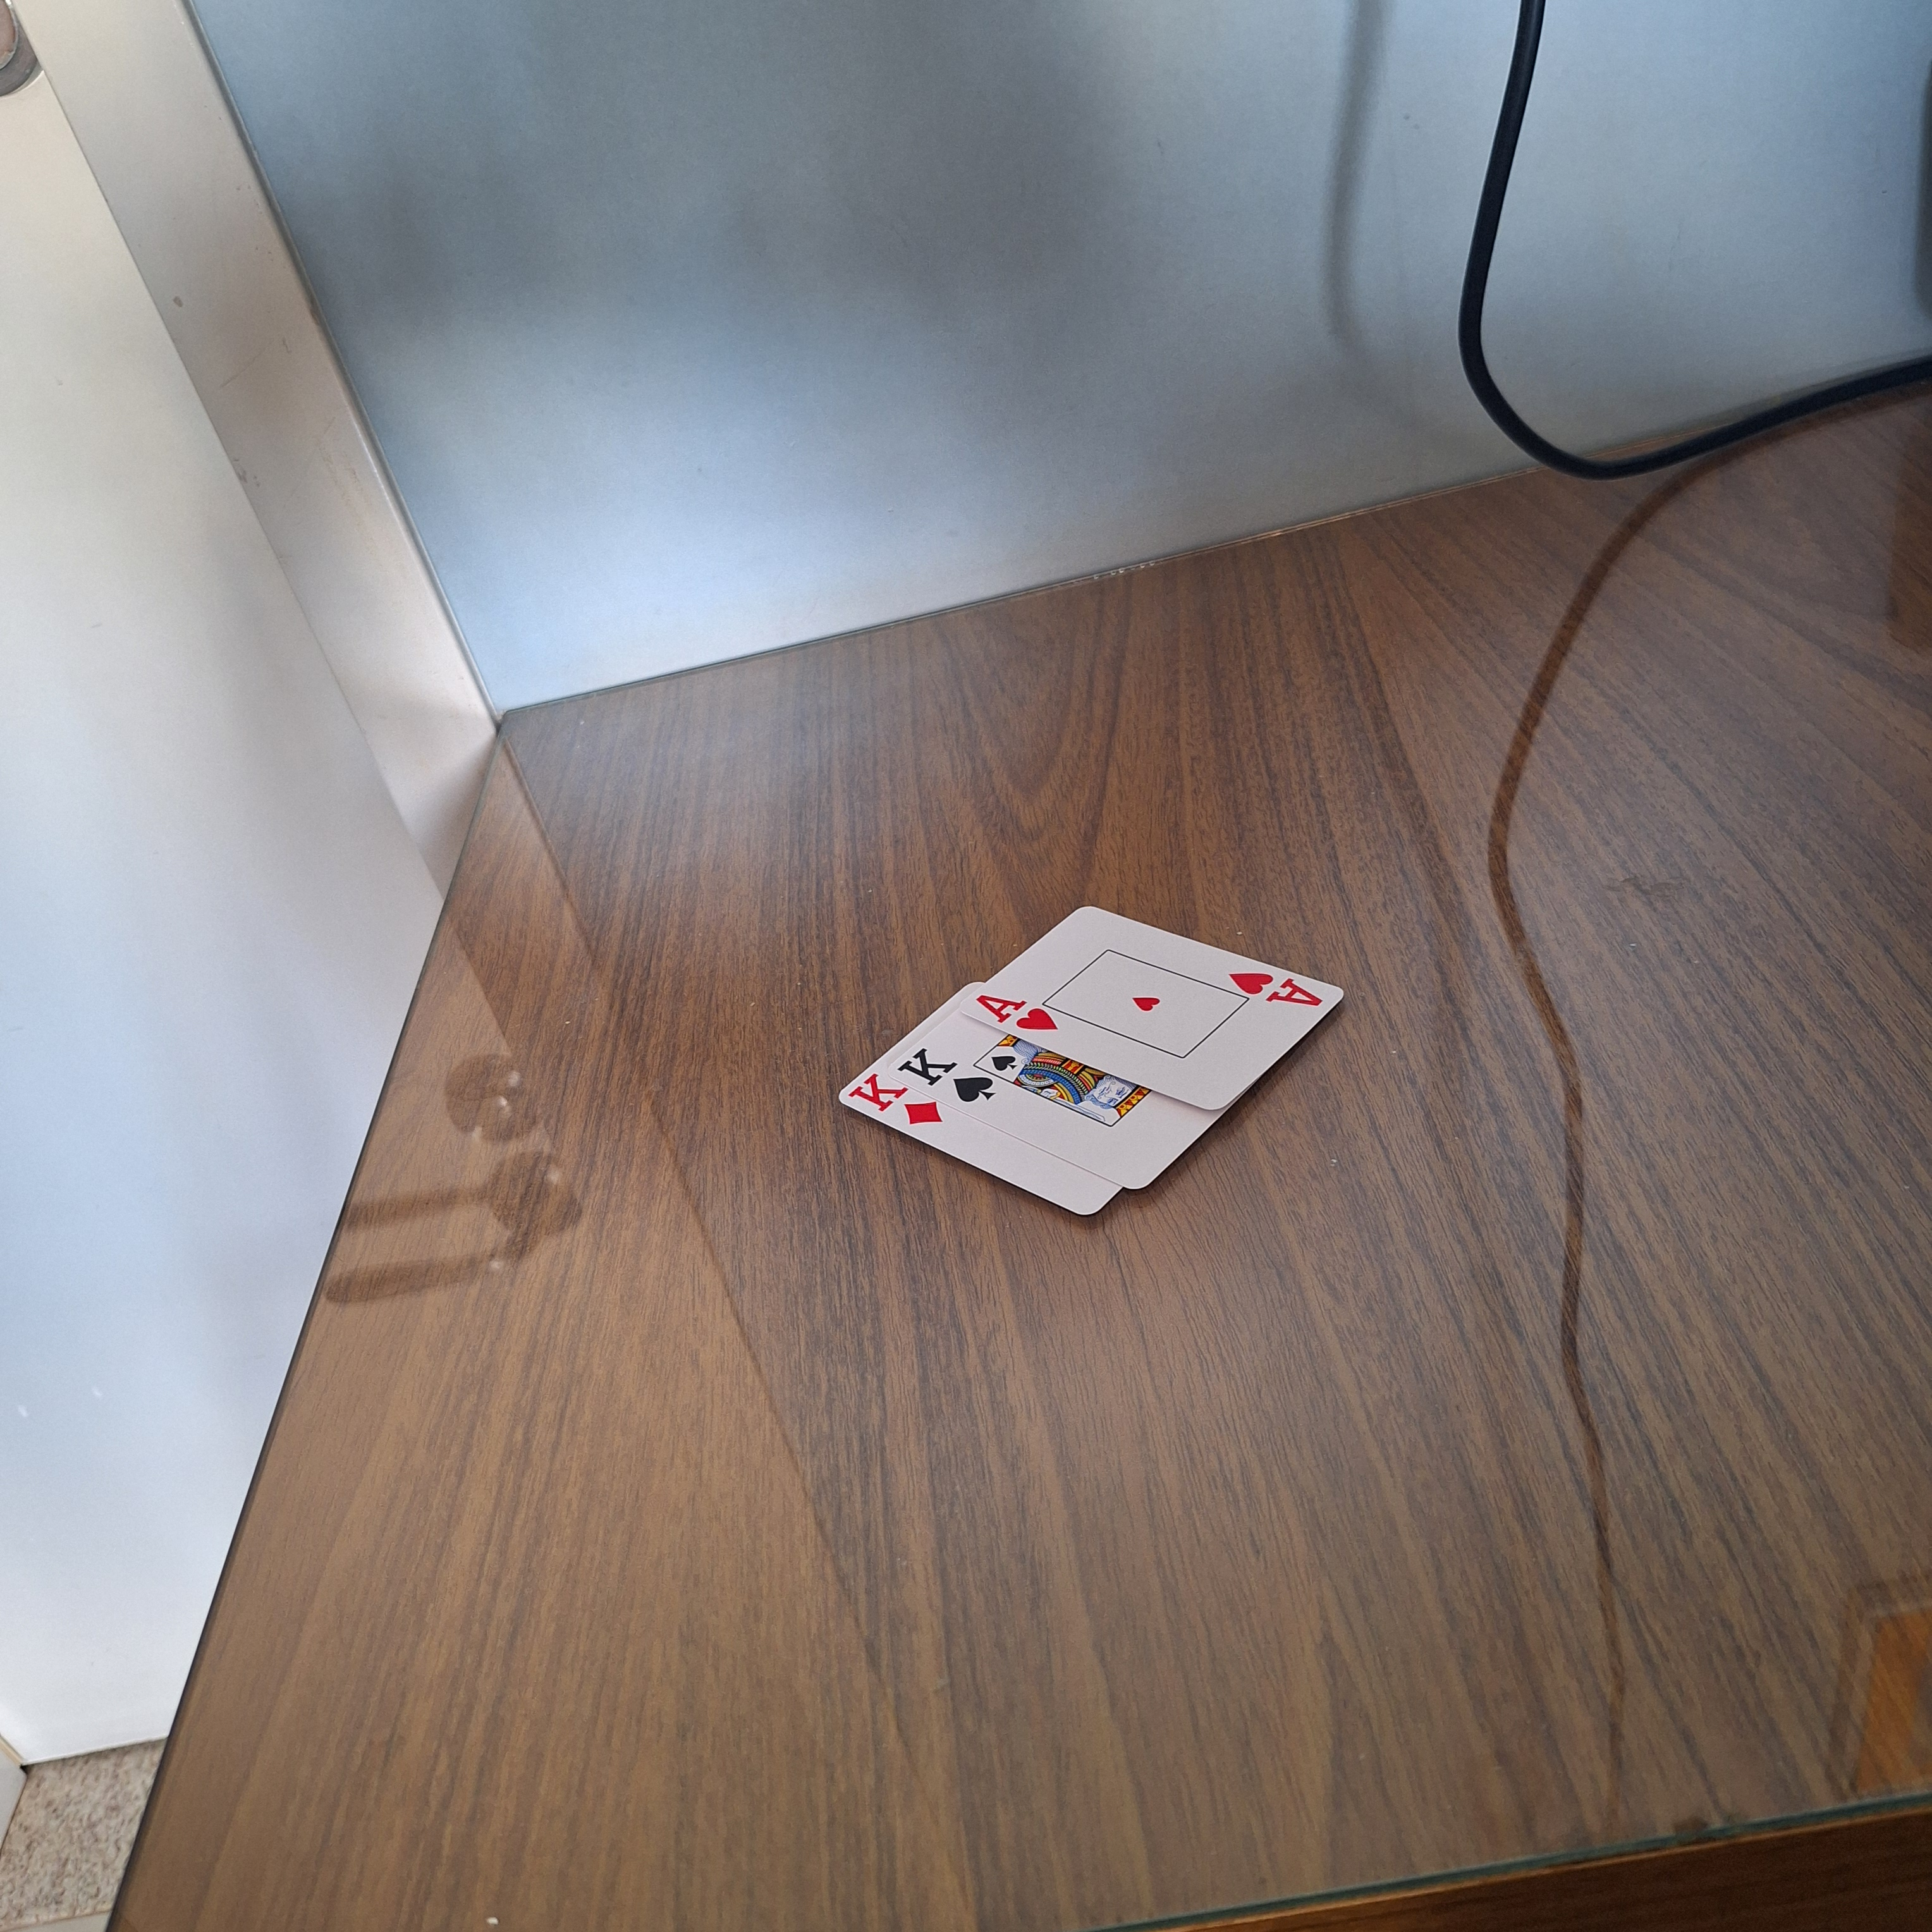AC: (1219, 952, 1330, 1019), (971, 980, 1062, 1042)
KE: (895, 1039, 998, 1106)
KO: (846, 1074, 943, 1129)
